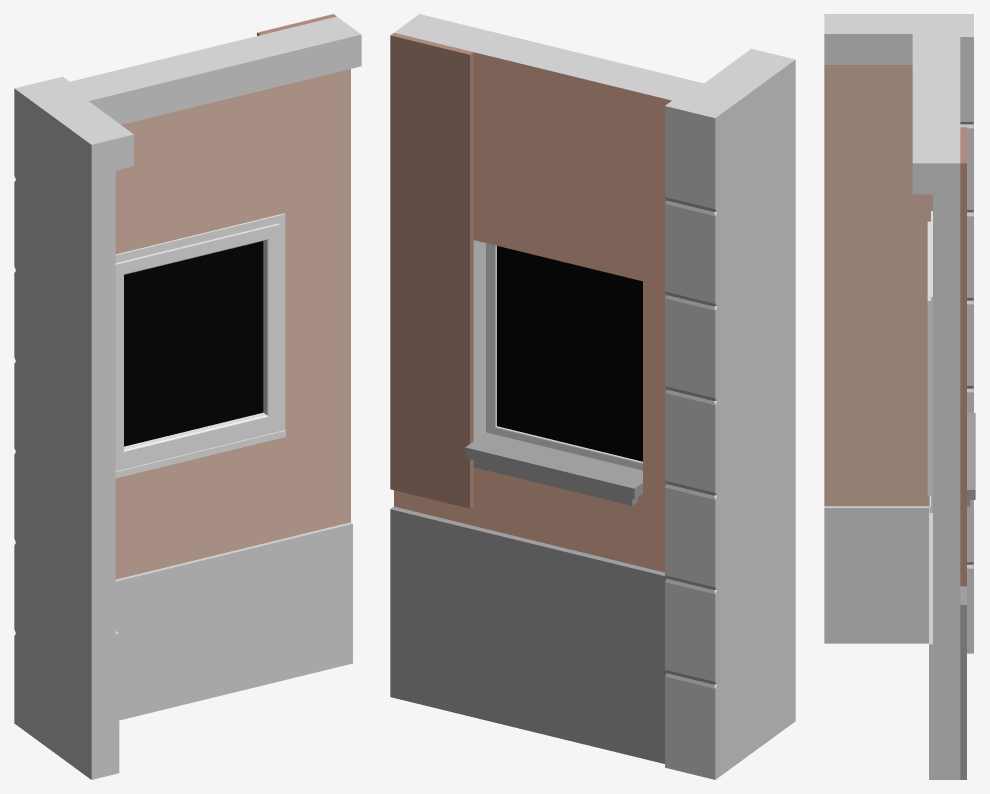
Rendered from EntranceWall_Window_Bottom_Corner.fbx.
The picture shows the model from 3 angles, left to right: view 1: azimuth 30°, elevation 25°; view 2: azimuth 150°, elevation 25°; view 3: azimuth 270°, elevation 25°; orthographic projection. The views are drawn at different scales.
Parts seen in each view (by area): view 1: EntranceWall_Window_Bottom_Corner; view 2: EntranceWall_Window_Bottom_Corner; view 3: EntranceWall_Window_Bottom_Corner.
Boxes of the visible parts, x1,y1,x2,y2 form: EntranceWall_Window_Bottom_Corner: (14,14,361,779); EntranceWall_Window_Bottom_Corner: (390,14,795,779); EntranceWall_Window_Bottom_Corner: (824,14,975,779).
Size of the model in its own units: 2.6 by 5 by 1.11.
